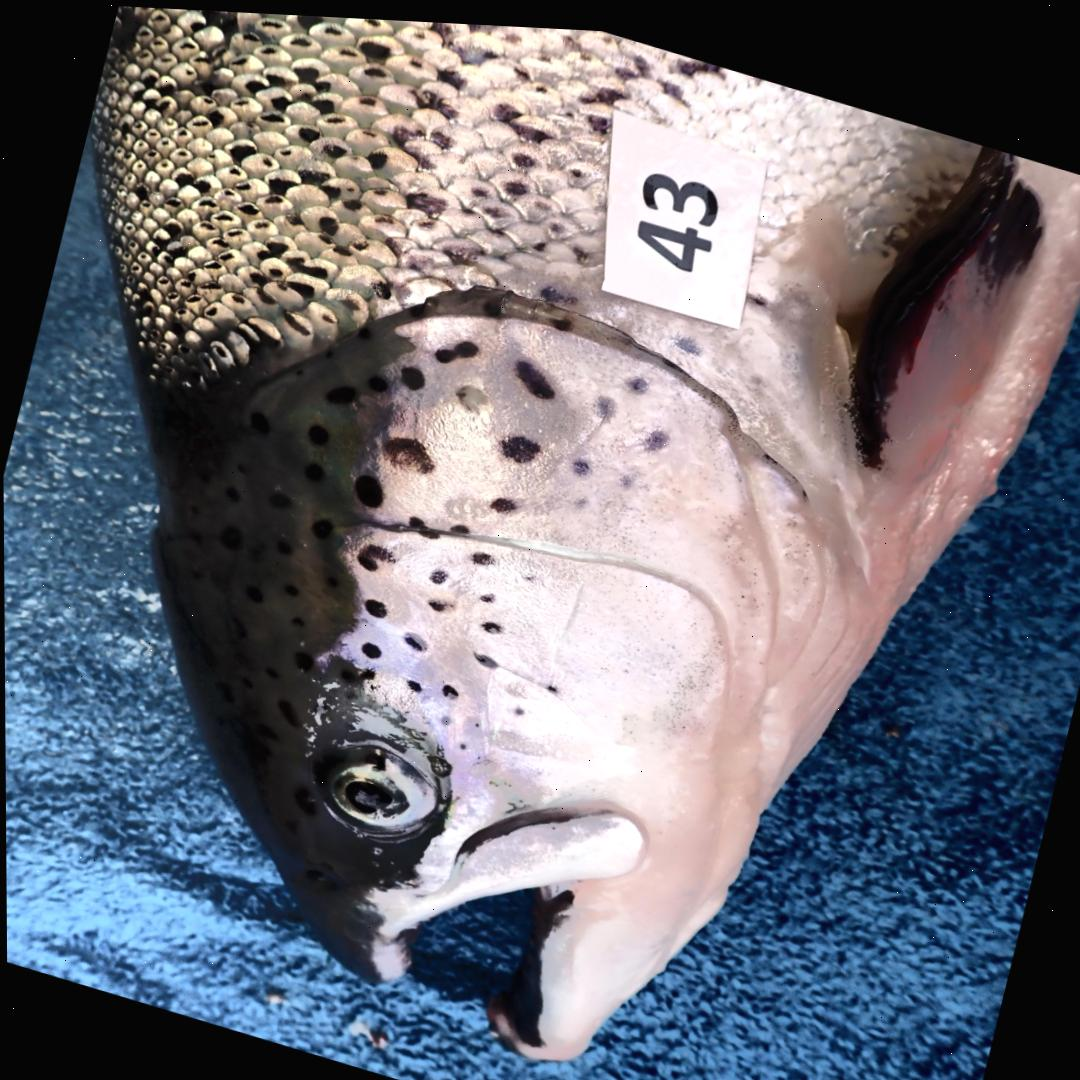spot: (382, 432, 433, 468), (513, 353, 554, 393), (498, 428, 540, 457), (355, 538, 395, 566), (352, 469, 383, 504), (454, 379, 490, 408), (433, 334, 478, 357), (610, 460, 646, 486), (566, 486, 601, 509), (398, 360, 425, 386), (400, 625, 427, 648), (641, 421, 669, 443), (592, 388, 615, 414), (362, 593, 386, 613), (488, 490, 516, 507), (417, 521, 451, 534), (624, 368, 648, 386), (427, 592, 454, 607), (473, 647, 498, 663), (360, 636, 381, 654), (570, 452, 590, 469), (469, 546, 494, 559), (482, 294, 500, 311), (428, 563, 447, 579), (440, 677, 458, 693), (480, 615, 501, 628), (407, 510, 425, 524), (449, 517, 470, 529), (549, 312, 570, 323), (478, 585, 494, 598), (357, 664, 374, 676), (405, 674, 420, 687), (545, 677, 556, 686), (440, 711, 449, 719), (515, 700, 523, 708), (458, 737, 464, 743)
